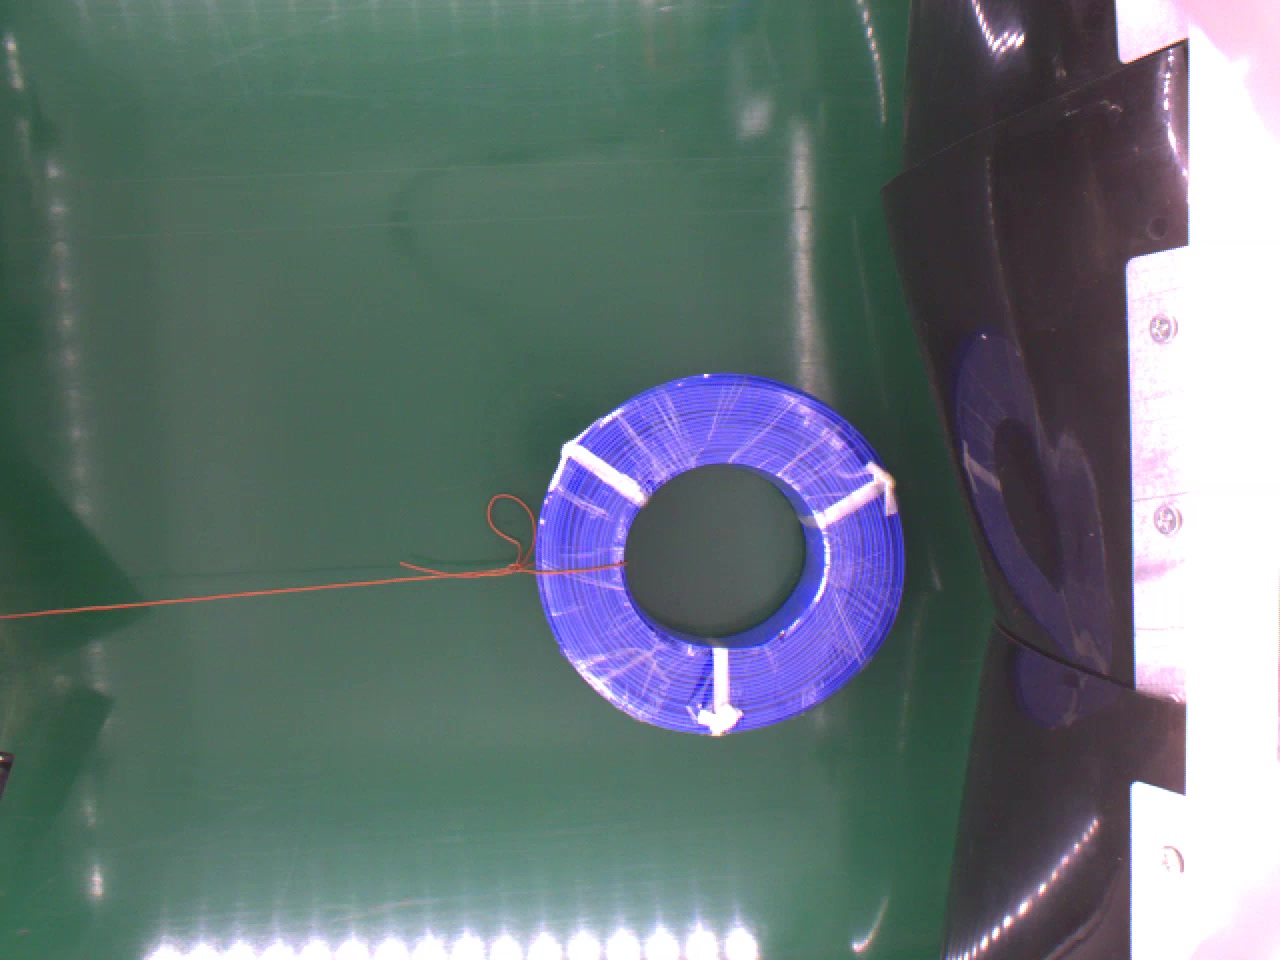blue: (534, 371, 912, 730)
